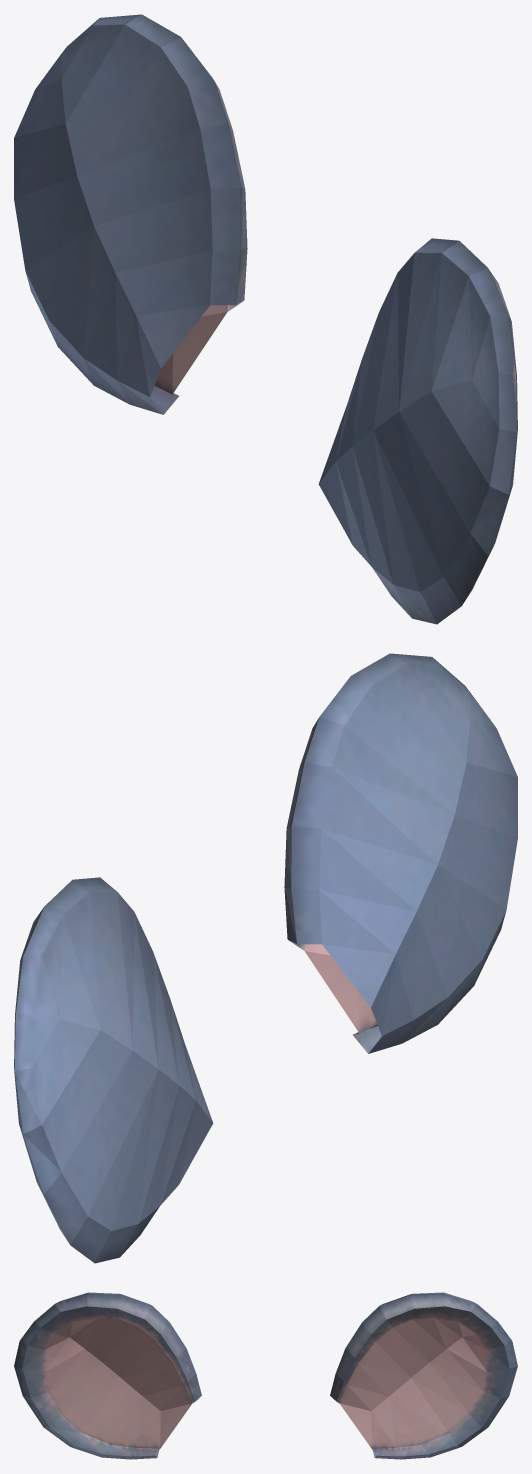
Rendered from MOUSE MASK B.fbx.
The picture shows the model from 3 angles, top to bottom: view 1: azimuth 30°, elevation 25°; view 2: azimuth 150°, elevation 25°; view 3: azimuth 270°, elevation 25°; orthographic projection. The views are drawn at different scales.
Visible parts, largest first — view 1: MOUSE_MASK_B; view 2: MOUSE_MASK_B; view 3: MOUSE_MASK_B.
Part boxes in pixels (left/top/right/bottom): MOUSE_MASK_B: left=14, top=14, right=517, bottom=624; MOUSE_MASK_B: left=14, top=653, right=517, bottom=1263; MOUSE_MASK_B: left=14, top=1292, right=517, bottom=1459.
Bounding box in the file's own units: 6.63 × 21.43 × 54.59.
